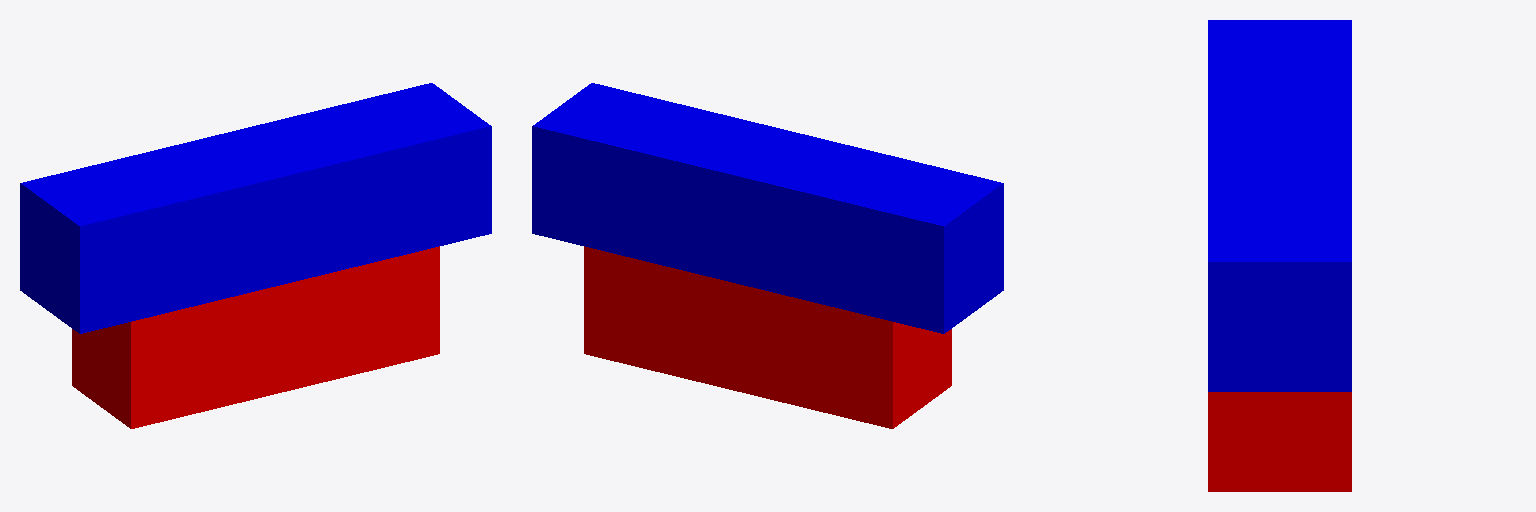
The robot description file, URDF, robot "robot_prismatic":
<?xml version="1.0"?>
<robot name="robot_prismatic">

  <link name="base_link">
    <inertial>
      <mass value="1.0"/>
      <origin xyz="0 0 0" rpy="0 0 0"/>
      <inertia 
        ixx="0.1" ixy="0.0" ixz="0.0"
        iyy="0.1" iyz="0.0"
        izz="0.1"/>
    </inertial>
    <visual>
      <origin xyz="0 0 0" rpy="0 0 0"/>
      <geometry><box size="3 1 1"/></geometry>
      <material name="Red"><color rgba="1.0 0.0 0.0 1.0"/></material>
    </visual>
    <collision>
      <origin xyz="0 0 0" rpy="0 0 0"/>
      <geometry><box size="3 1 1"/></geometry>
    </collision>
  </link>

  <link name="link1">
    <inertial>
      <mass value="0.5"/>
      <origin xyz="0 0 0.5" rpy="0 0 0"/>
      <inertia 
        ixx="0.05" ixy="0.0" ixz="0.0"
        iyy="0.05" iyz="0.0"
        izz="0.05"/>
    </inertial>
    <visual>
      <origin xyz="0 0 0.5" rpy="0 0 0"/>
      <geometry><box size="4 1 1"/></geometry>
      <material name="Blue"><color rgba="0.0 0.0 1.0 1.0"/></material>
    </visual>
    <collision>
      <origin xyz="0 0 0.5" rpy="0 0 0"/>
      <geometry><box size="4 1 1"/></geometry>
    </collision>
  </link>

  <joint name="joint_prismatic_1" type="prismatic">
    <parent link="base_link"/>
    <child link="link1"/>
    <axis xyz="1 0 0"/>
    <origin xyz="0 0 0.5" rpy="0 0 0"/>
    <limit lower="-1.5" upper="1.5" effort="10" velocity="0.1"/>
  </joint>

</robot>

--- Render facts (derived) ---
Views: 3 orthographic renders of the robot side by side, from view 1: azimuth 30°, elevation 25°; view 2: azimuth 150°, elevation 25°; view 3: azimuth 270°, elevation 25°.
Model robot_prismatic with 2 links and 1 joints (1 prismatic), rooted at base_link, posed every joint at zero.
Links seen in each view (by area): view 1: link1, base_link; view 2: link1, base_link; view 3: link1, base_link.
Boxes of the visible links, bbox=[...] form: link1: bbox=[20, 83, 491, 333]; base_link: bbox=[72, 246, 439, 428]; link1: bbox=[532, 83, 1003, 333]; base_link: bbox=[584, 246, 951, 428]; link1: bbox=[1208, 20, 1351, 391]; base_link: bbox=[1208, 392, 1351, 491].
Bounding box of the posed robot: 4 × 1 × 2 m (x, y, z).
Geometry: primitives only (box / cylinder / sphere), no mesh files.